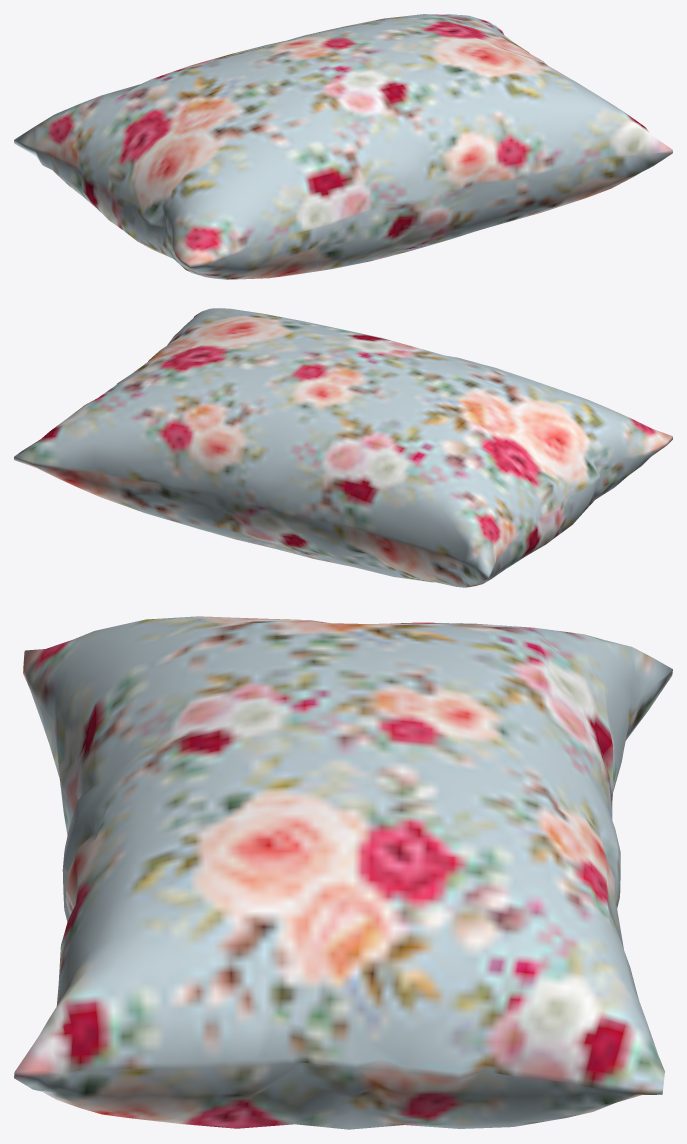
Rendered from lyster_pillow.fbx.
The picture shows the model from 3 angles, top to bottom: view 1: azimuth 30°, elevation 25°; view 2: azimuth 150°, elevation 25°; view 3: azimuth 270°, elevation 25°; orthographic projection. The views are drawn at different scales.
Parts seen in each view (by area): view 1: Lyster Platform Bed.003; view 2: Lyster Platform Bed.003; view 3: Lyster Platform Bed.003.
Part boxes in pixels (left/top/right/bottom): Lyster Platform Bed.003: left=14, top=14, right=672, bottom=279; Lyster Platform Bed.003: left=14, top=308, right=672, bottom=587; Lyster Platform Bed.003: left=14, top=616, right=672, bottom=1129.
Size of the model in its own units: 0.5894 by 0.2063 by 0.387.
